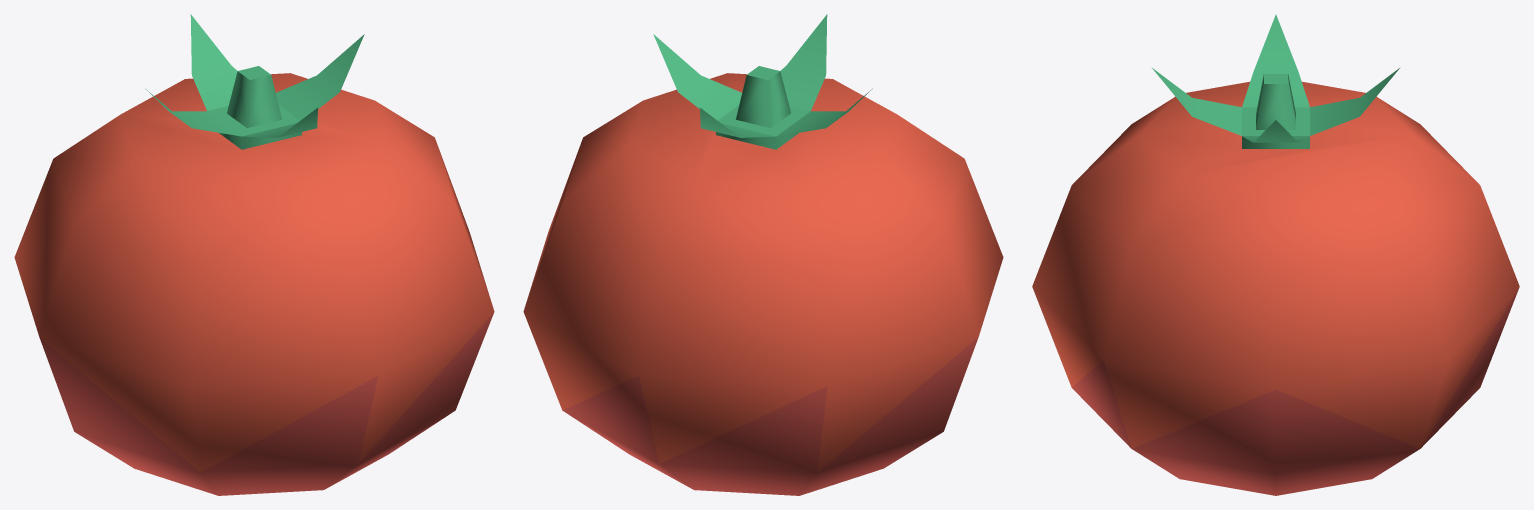
File: tomate.glb
The picture shows the model from 3 angles, left to right: view 1: azimuth 30°, elevation 25°; view 2: azimuth 150°, elevation 25°; view 3: azimuth 270°, elevation 25°; orthographic projection.
Visible parts, largest first — view 1: tomato; view 2: tomato; view 3: tomato.
Boxes of the visible parts, x1,y1,x2,y2 form: tomato: [14, 14, 494, 495]; tomato: [523, 14, 1003, 495]; tomato: [1032, 14, 1519, 495].
Size of the model in its own units: 0.1697 by 0.1427 by 0.1697.
